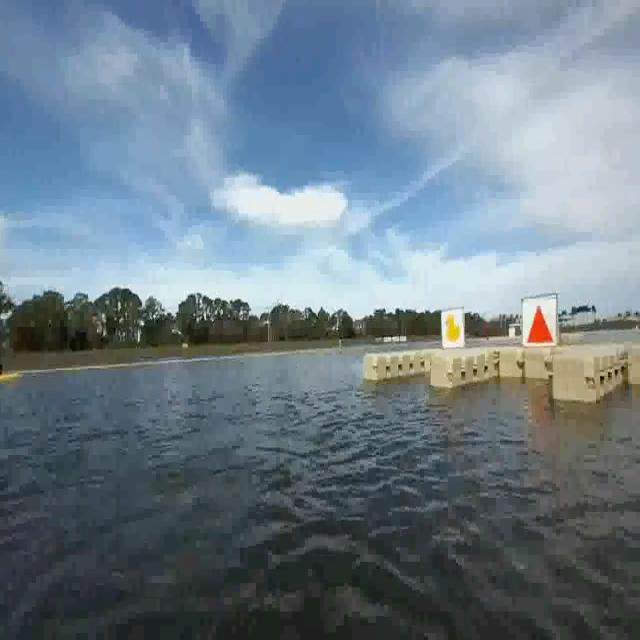red-dot: (522, 295, 558, 349)
yellow-duck: (443, 311, 465, 347)
